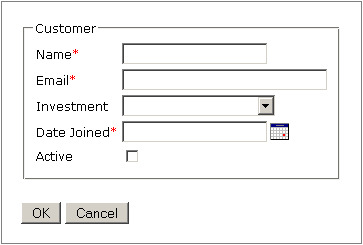_form_: (1, 1, 363, 245)
button: (64, 201, 130, 225), (20, 201, 62, 224)
checkbox: (124, 149, 140, 163)
checkbox_with_label: (36, 148, 142, 164)
field: (119, 68, 328, 91), (120, 42, 268, 65), (120, 120, 268, 143)
field_with_label: (37, 67, 328, 92), (37, 119, 269, 145), (36, 41, 268, 66), (37, 94, 277, 118)
select: (121, 94, 276, 117)
